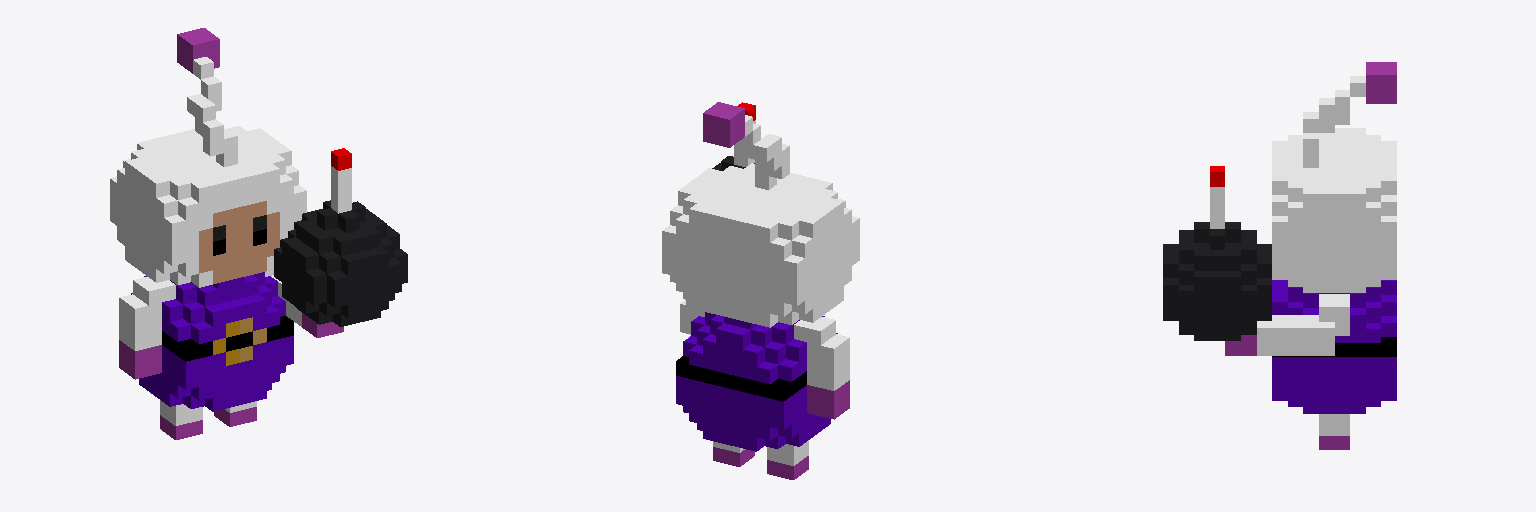
3 renders of one model, left to right at view 1: azimuth 30°, elevation 25°; view 2: azimuth 150°, elevation 25°; view 3: azimuth 270°, elevation 25°, orthographic.
Visible parts, largest first — view 1: bboi_bomb1; view 2: bboi_bomb1; view 3: bboi_bomb1.
Part boxes in pixels (left/top/right/bottom): bboi_bomb1: left=110, top=28, right=407, bottom=439; bboi_bomb1: left=662, top=102, right=859, bottom=479; bboi_bomb1: left=1163, top=62, right=1396, bottom=449.
Bounding box in the file's own units: 15 × 26 × 15.
Materials: 1 (1 with a texture image).